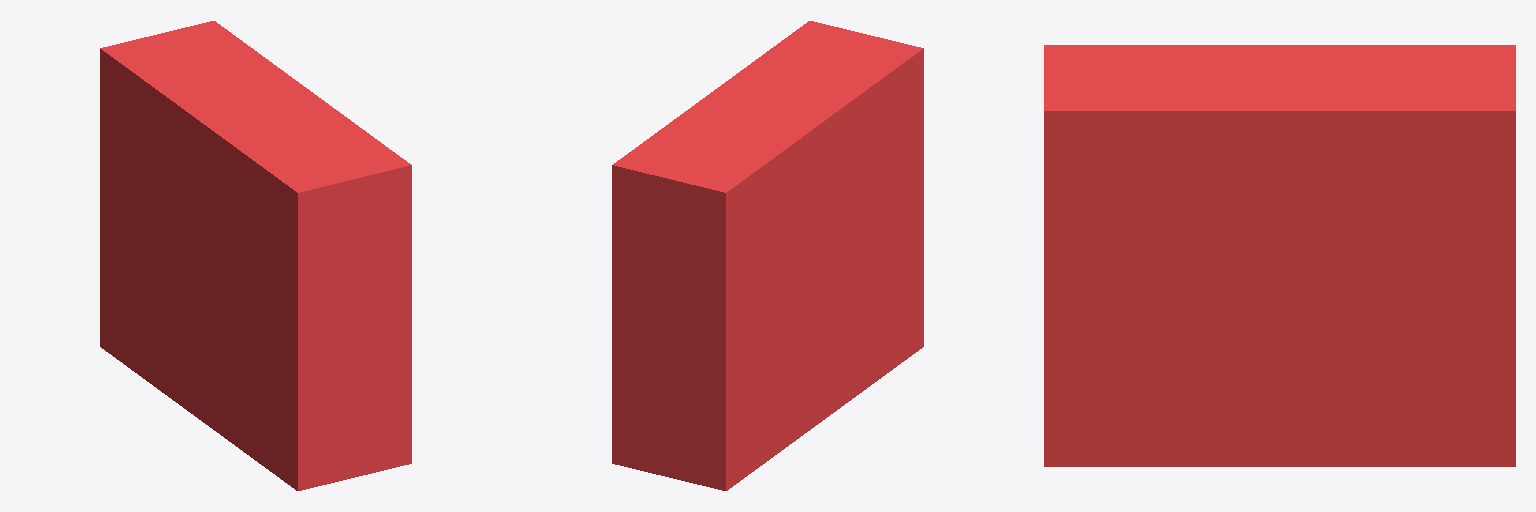
The robot description file, URDF, robot "box.urdf":
<?xml version="0.0" ?>
<robot name="box.urdf">
  <link name="baseLink">
    <contact>
      <lateral_friction value="1.0"/>
      <rolling_friction value="0.0001"/>
      <inertia_scaling value="3.0"/>
    </contact>
    <inertial>
      <origin rpy="0 0 0" xyz="0 0 0"/>
       <mass value=".1"/>
       <inertia ixx="1" ixy="0" ixz="0" iyy="1" iyz="0" izz="1"/>
    </inertial>
    <visual>
      <origin rpy="0 0 0" xyz="0 0 0"/>
      <geometry>
         <box size="0.04 0.12 0.1"/>
      </geometry>
      <material name="red">
        <color rgba="1 0.3412 0.3490 1"/>
      </material>
    </visual>
    <collision>
      <origin rpy="0 0 0" xyz="0 0 0"/>
      <geometry>
	 	    <box size="0.04 0.12 0.1"/>
      </geometry>
    </collision>
  </link>
</robot>

--- What the picture shows (computed from the rendered views, not written in the file) ---
Views: 3 orthographic renders of the robot side by side, from view 1: azimuth 30°, elevation 25°; view 2: azimuth 150°, elevation 25°; view 3: azimuth 270°, elevation 25°.
Robot: box.urdf — 1 links, 0 joints (none); root link baseLink; default pose: all joints at 0.
Links seen in each view (by area): view 1: baseLink; view 2: baseLink; view 3: baseLink.
Link boxes in pixels (left/top/right/bottom): baseLink: left=100, top=21, right=411, bottom=490; baseLink: left=612, top=21, right=923, bottom=490; baseLink: left=1044, top=45, right=1515, bottom=466.
Size in the robot's own frame: 0.04 by 0.12 by 0.1 metres.
Geometry: primitives only (box / cylinder / sphere), no mesh files.